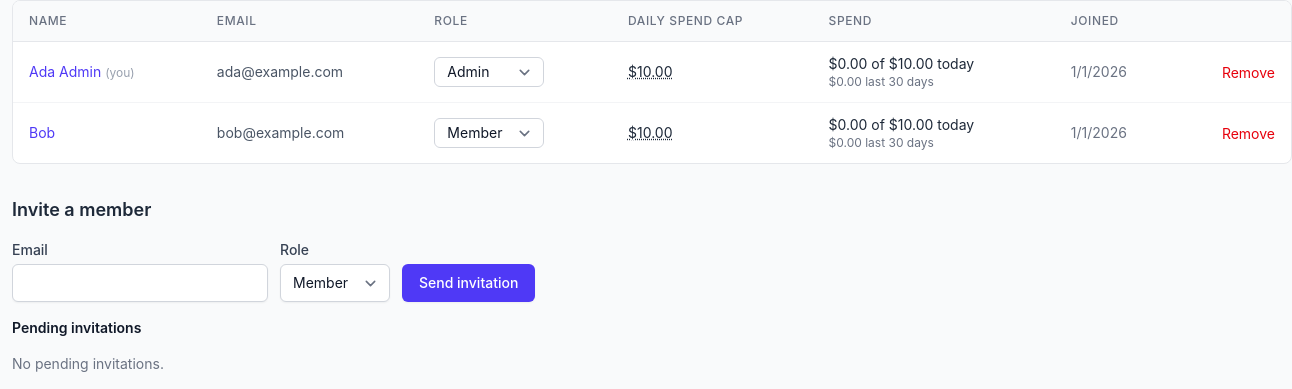
Test case: PeopleManager › removes a member after confirmation
Click the button "Remove" in the row of "bob@example.com" at (1248, 134), box [1222, 124, 1275, 144]
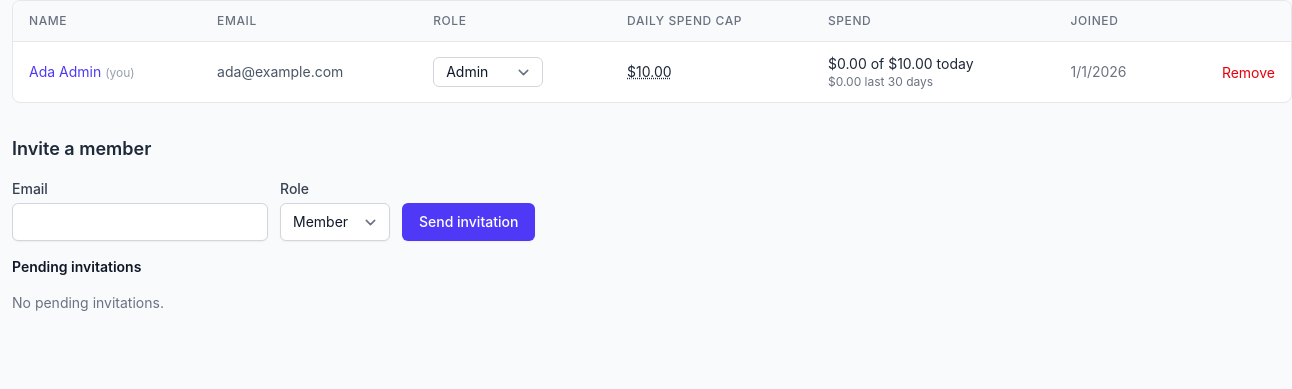
expect the link "Bob" is gone: met
